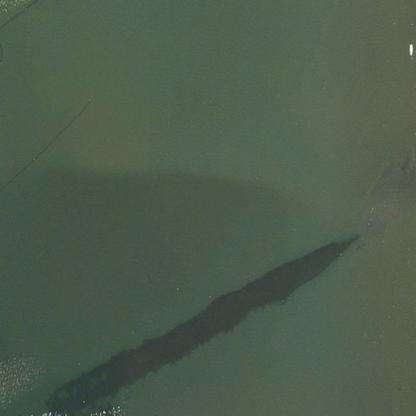ship: (408, 42, 412, 56)
